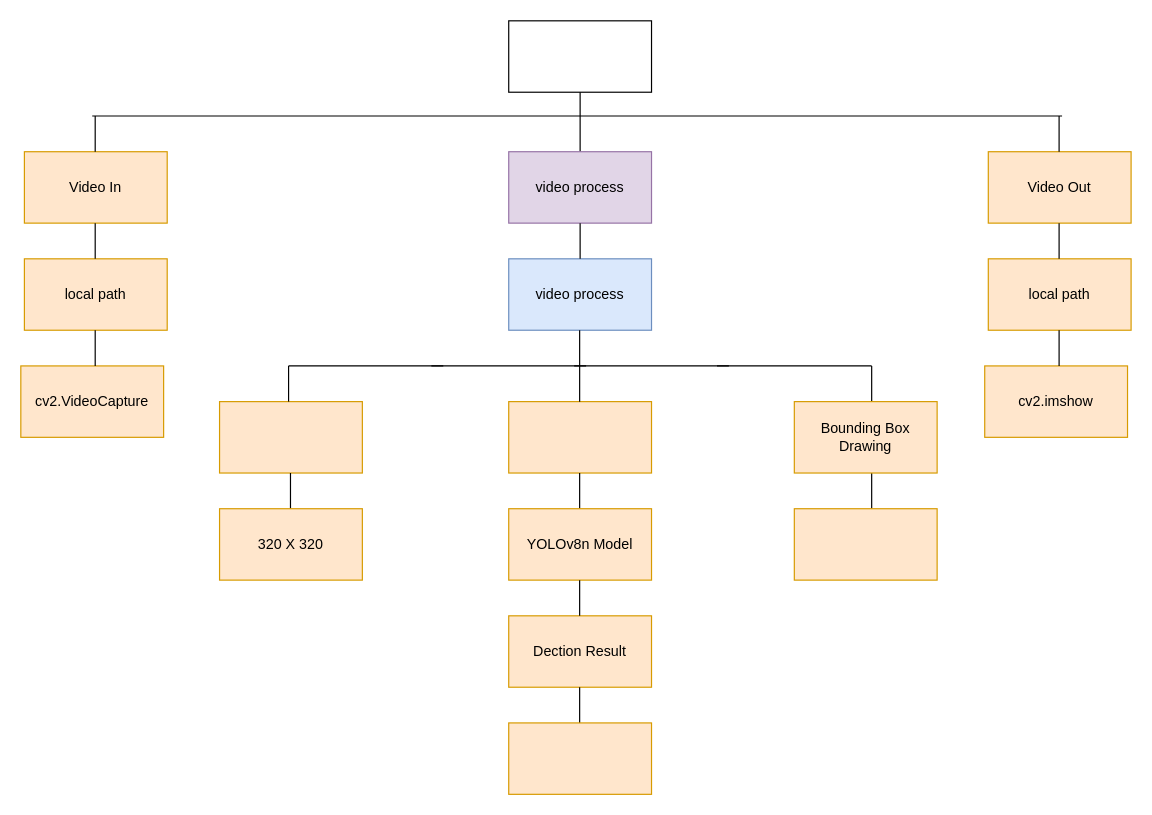
Some shapes in this 1152 by 815 pixel diagram are drawn without their labels. The shapes that lost their labels are listed below. From the top down, each one's box as (x1, y1, x2, y2) in pixels, then its label:
(508, 20, 652, 92): Fire-Detection System
(218, 400, 362, 473): Image Resize
(508, 400, 652, 473): ONNX Runtime
(793, 508, 937, 580): Class + Confidence
(508, 722, 652, 794): CSV Logging / Event Record
